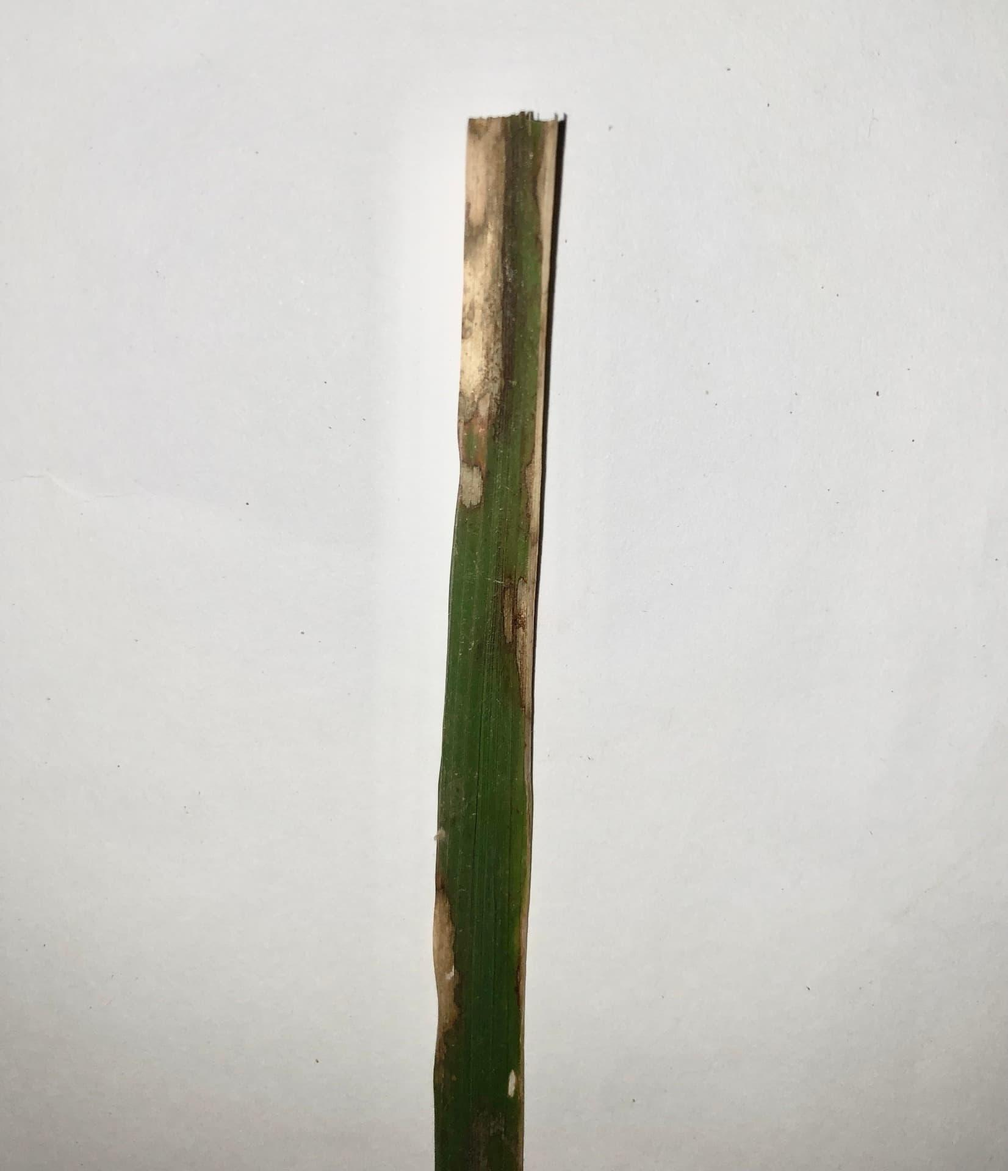Leaf Blight: (459, 113, 560, 1170), (432, 889, 461, 1091), (503, 580, 514, 647)
